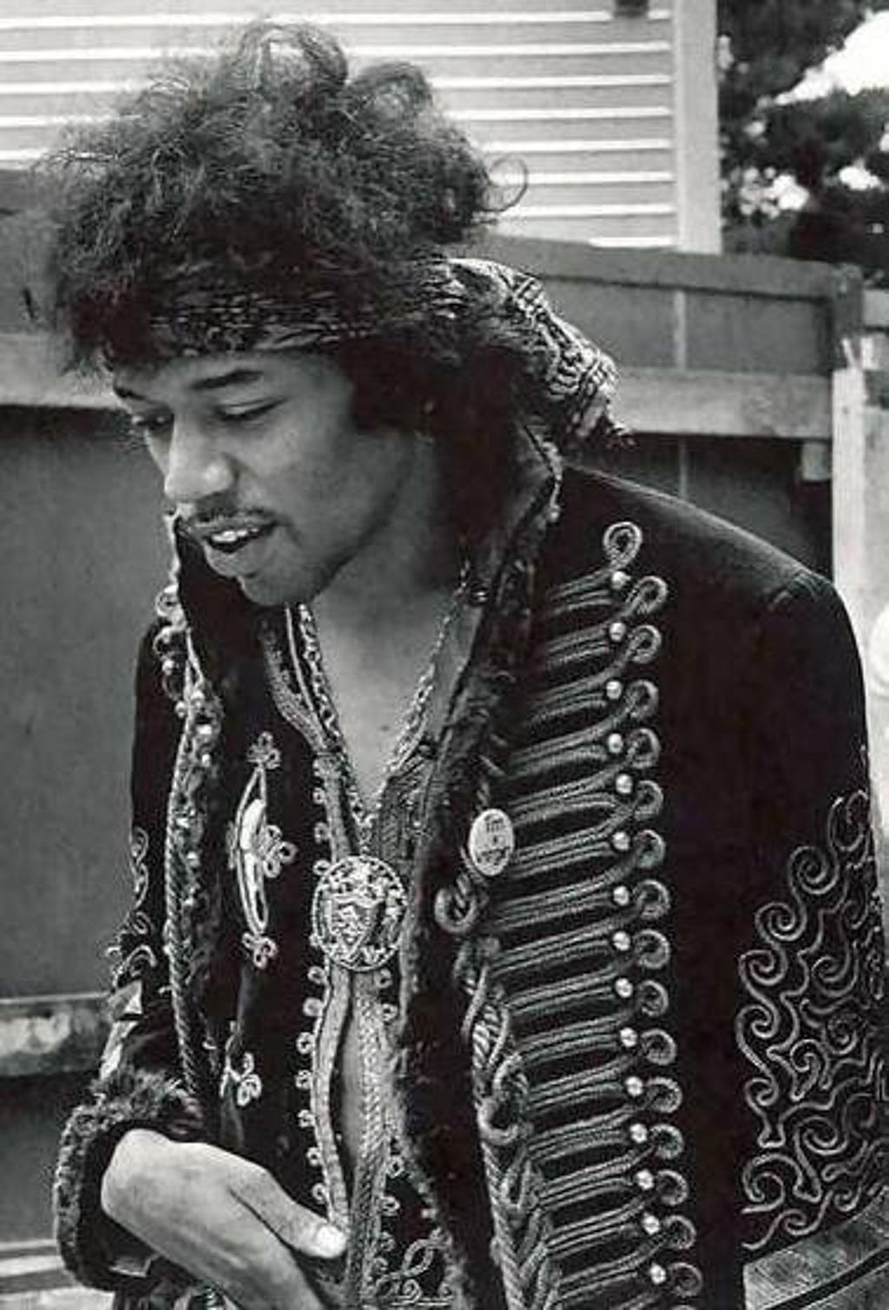human_face: (105, 296, 371, 606)
